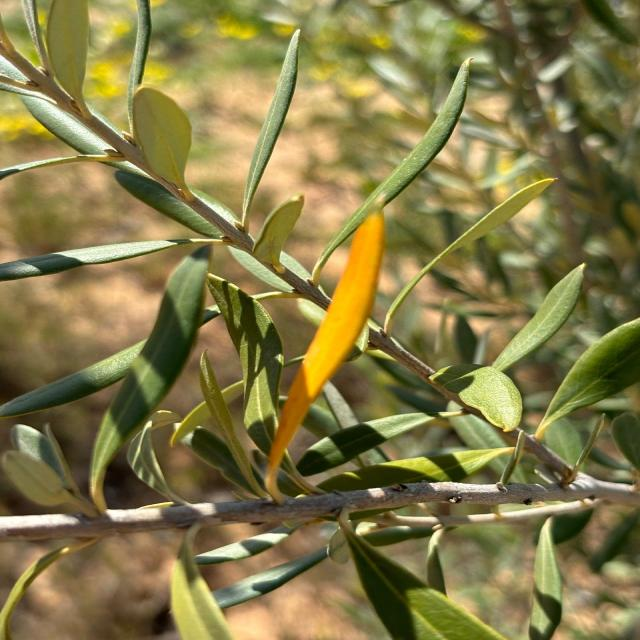Peacock Eye: (266, 210, 385, 500)
